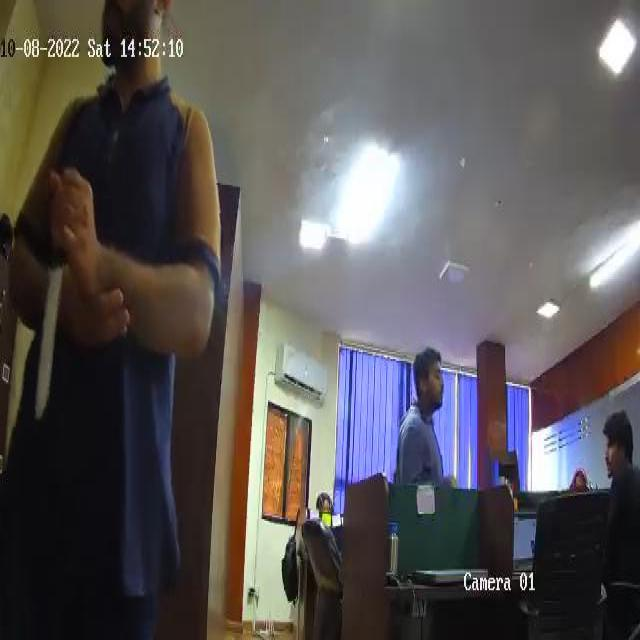Knife: (33, 203, 74, 430)
